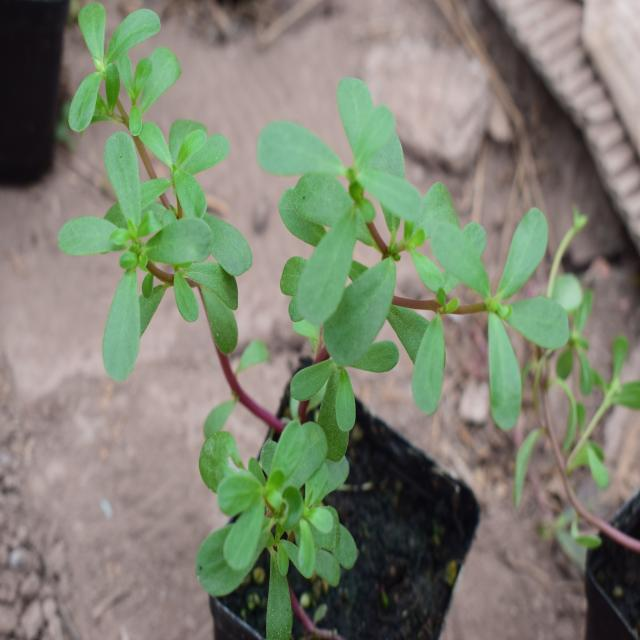purslane: (55, 14, 578, 446), (179, 375, 355, 604)
